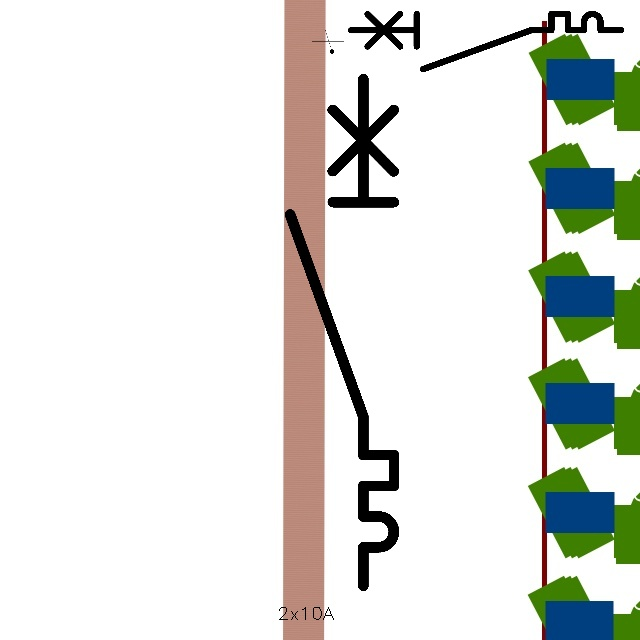interruptor_termomagnetico: (277, 66, 407, 599), (344, 7, 628, 76)
